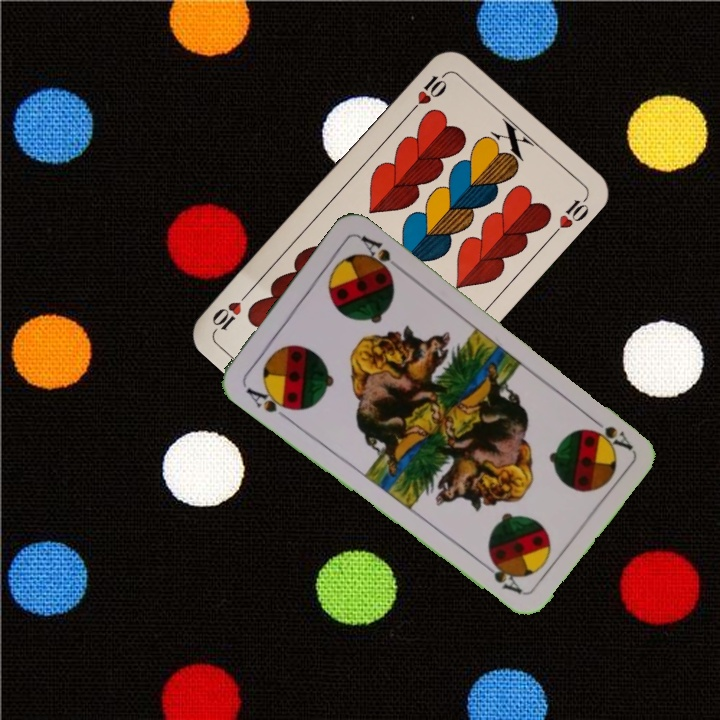H10: (405, 68, 450, 116)
SA: (241, 381, 298, 423), (583, 411, 635, 453)
